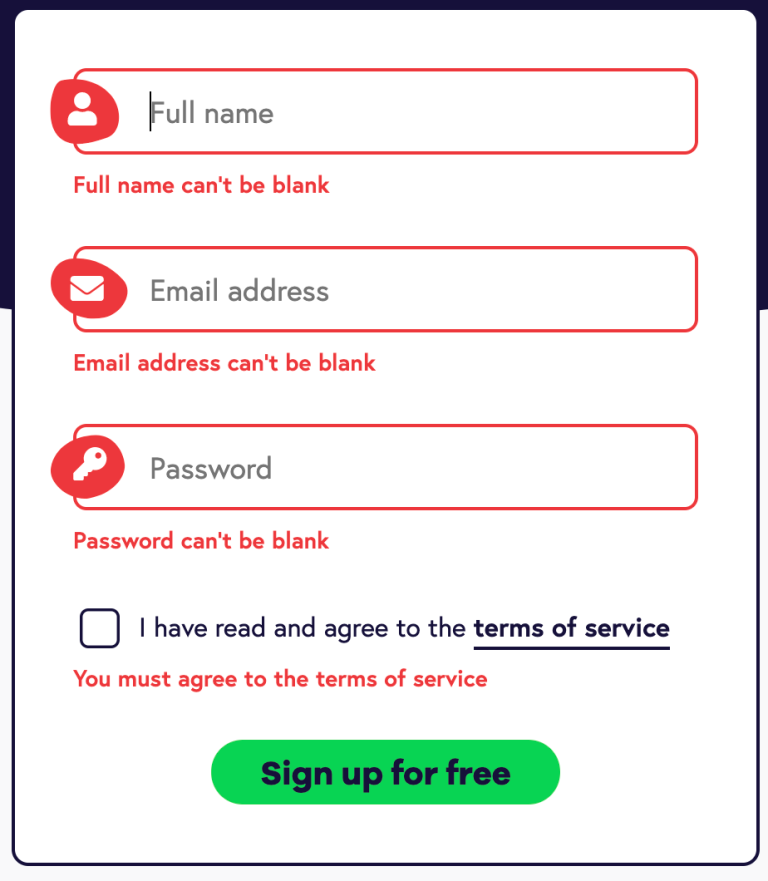error_field: (71, 67, 699, 157), (71, 246, 699, 334), (71, 424, 700, 510)
error_message: (73, 669, 488, 690), (73, 172, 329, 197), (71, 353, 378, 373), (73, 531, 330, 549)
